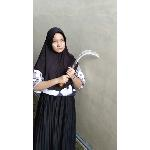Celurit: (60, 48, 102, 86)
